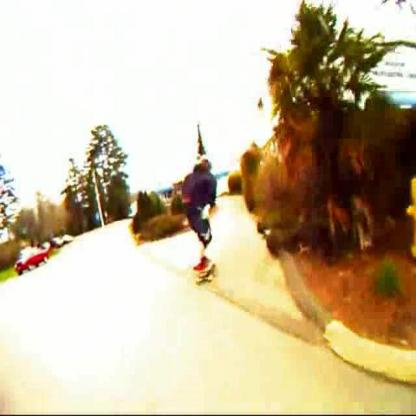other: (230, 95, 300, 240), (181, 243, 225, 295), (12, 243, 56, 278)
